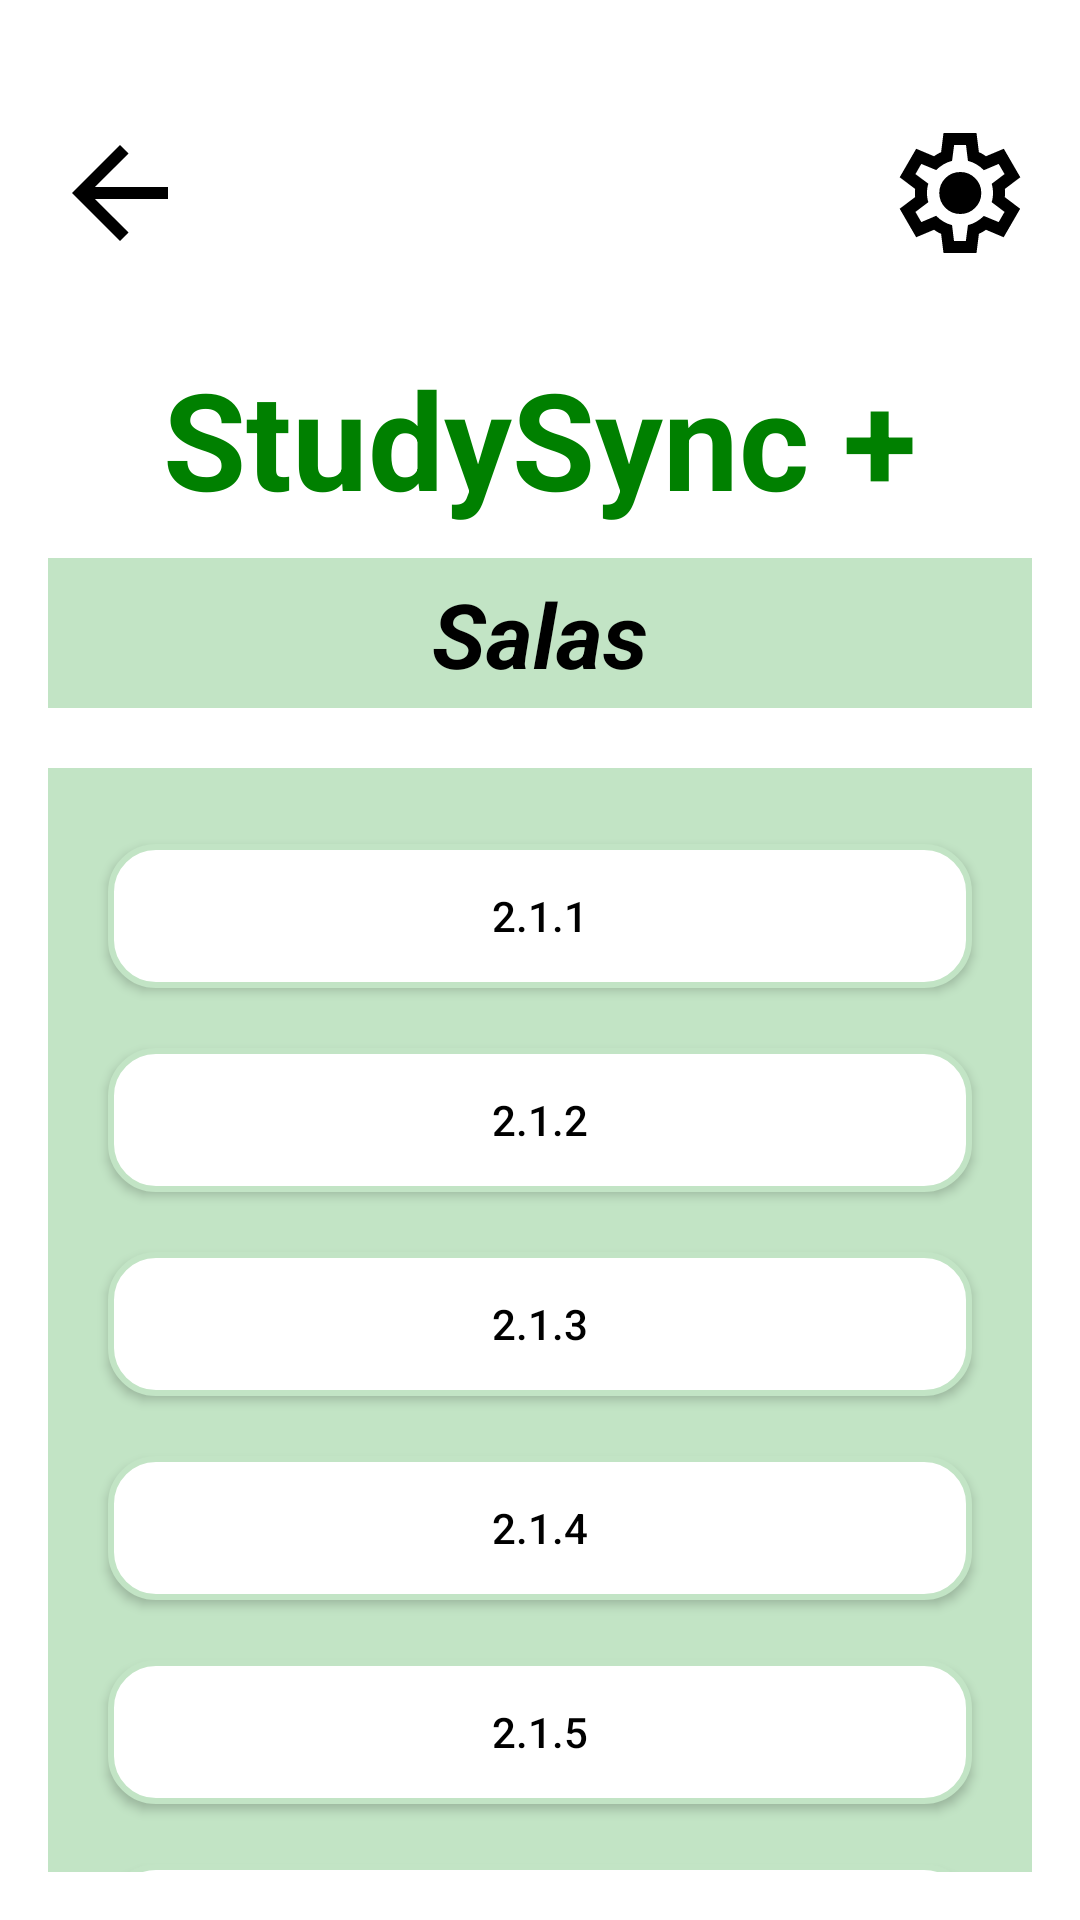

Named icons in this screenshot (1080 × 1920) and their bounding boxes, (x1, y1, x2, y2):
back arrow: (72, 145, 168, 241)
settings cog: (899, 133, 1021, 253)
